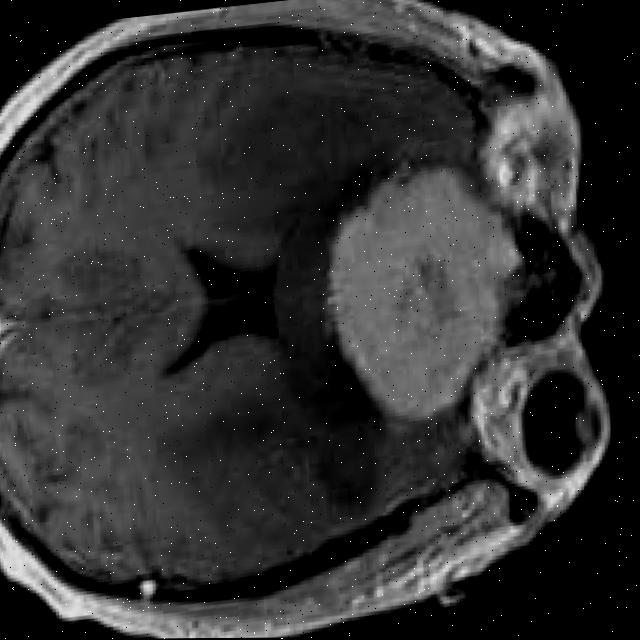Meningioma: (301, 153, 544, 430)
